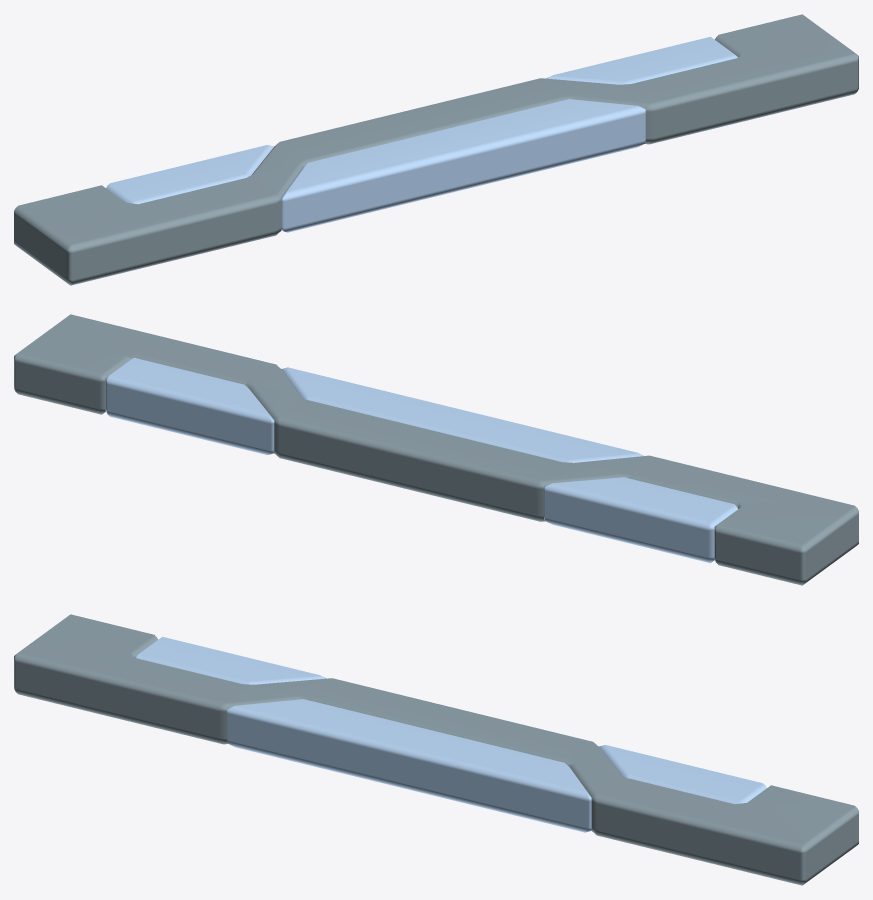
The model's file is beam_004.fbx.
3 views of the same model, one above another, from view 1: azimuth 30°, elevation 25°; view 2: azimuth 150°, elevation 25°; view 3: azimuth 330°, elevation 25° (orthographic).
Visible parts, largest first — view 1: beam_004; view 2: beam_004; view 3: beam_004.
Boxes of the visible parts, bbox=[...] form: beam_004: bbox=[14, 14, 858, 285]; beam_004: bbox=[14, 314, 858, 585]; beam_004: bbox=[14, 614, 858, 885].
Bounding box in the file's own units: 2000 × 250 × 100.
